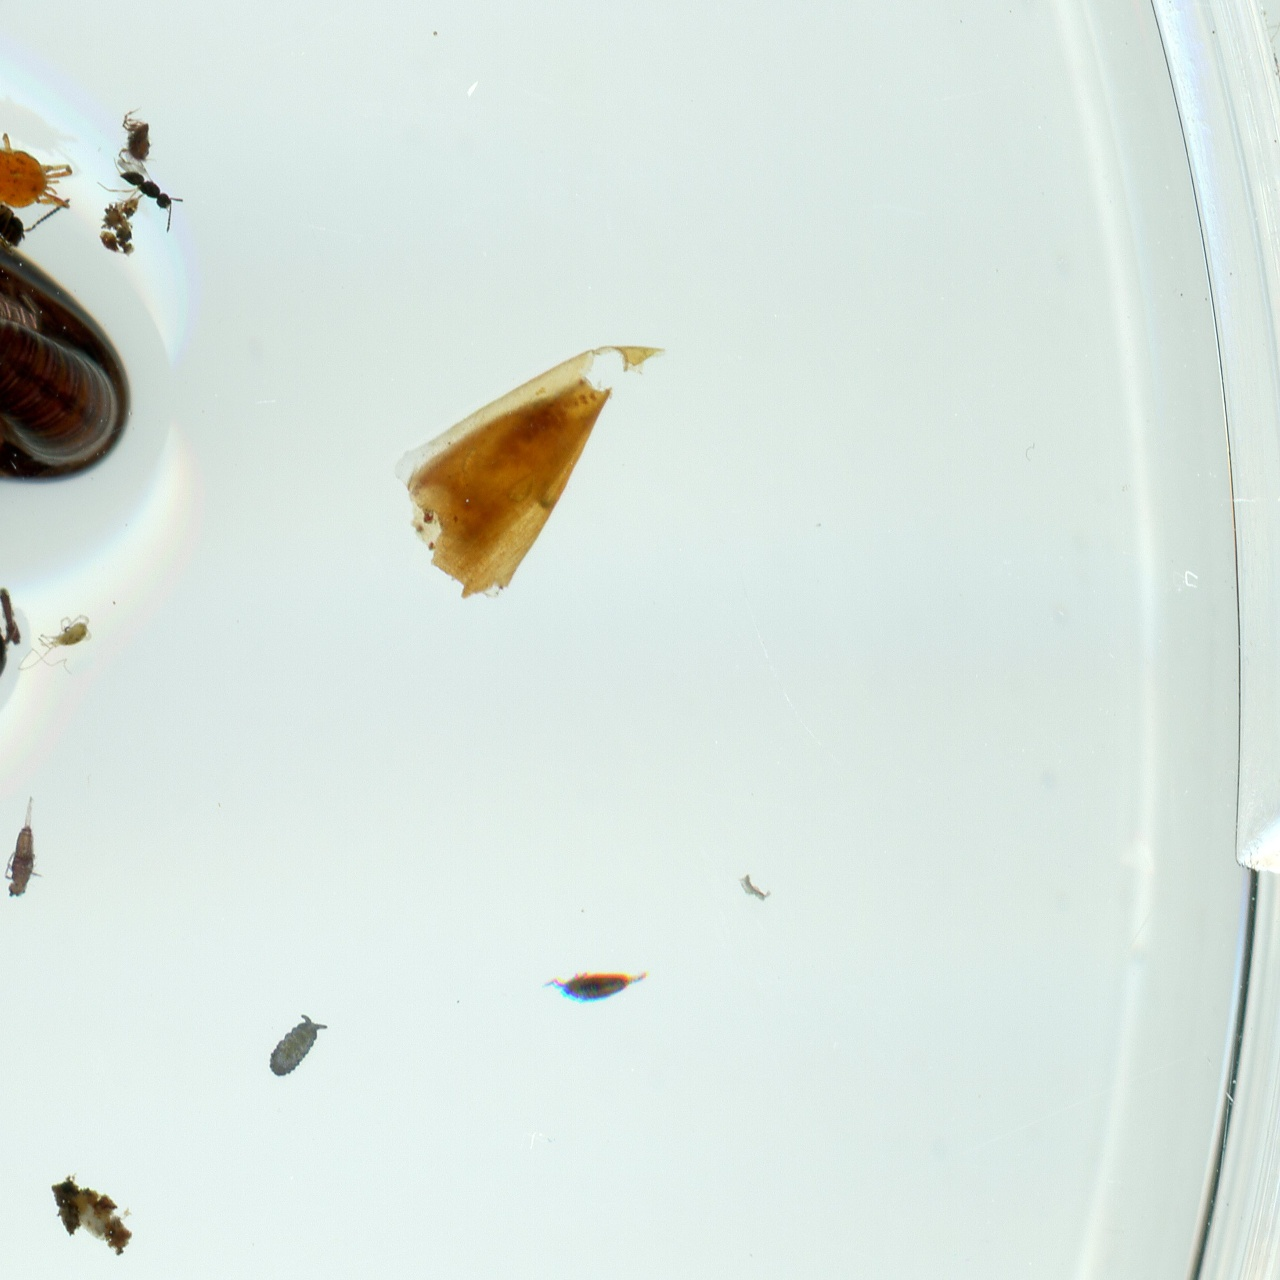arthropod: (0, 137, 127, 712), (100, 157, 185, 231), (0, 130, 73, 210), (18, 610, 94, 676), (4, 795, 45, 898), (267, 1013, 328, 1078), (540, 972, 654, 1001), (0, 181, 26, 265), (122, 105, 155, 155)
